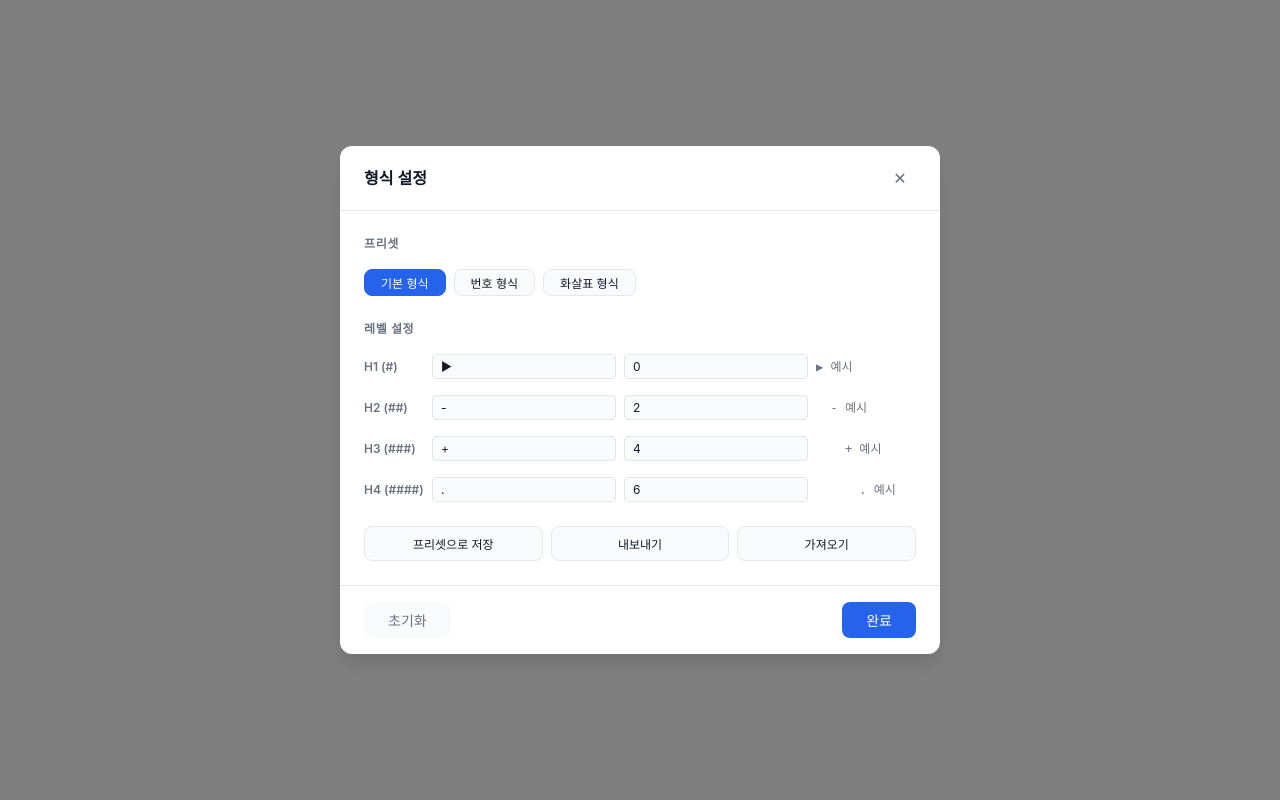
Test: SettingsModal › 프리셋 저장 › 저장 버튼 클릭 시 이름 입력 필드가 표시된다
Click the button with test id "save-preset-button": click(453, 544) [364, 526, 543, 561]
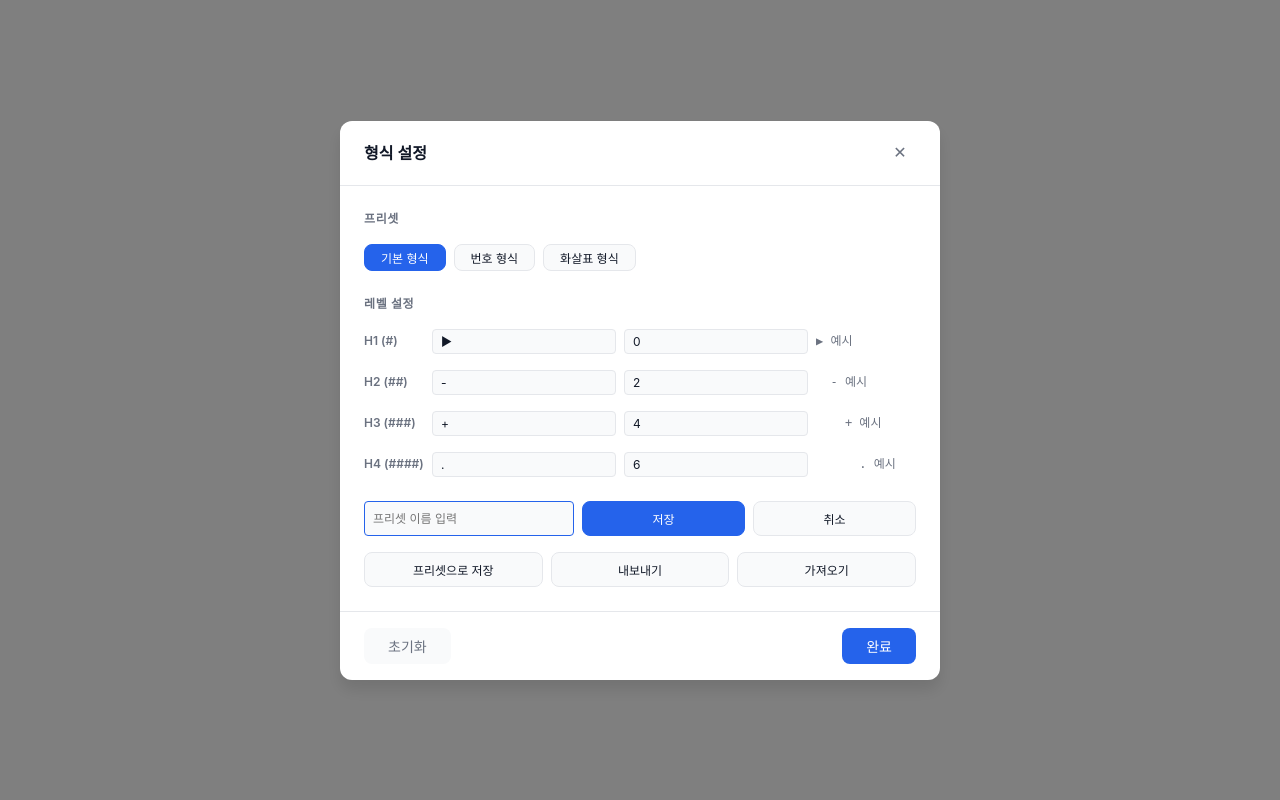
Expected: the field with test id "preset-name-input" is shown, [364, 500, 574, 536]
